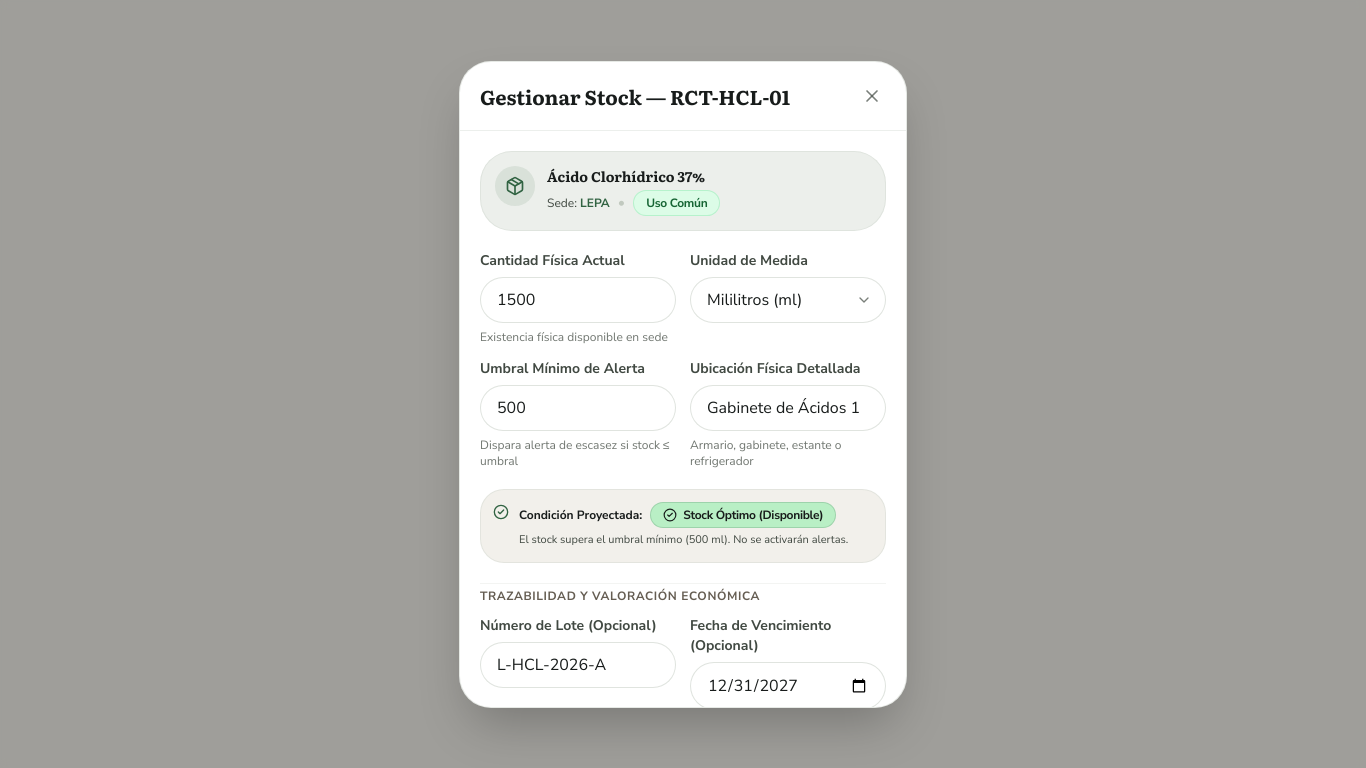
Test: StockModal Component › validates mandatory location before submission
This screenshot has width=1366, height=768.
Step 1. Clear the field labelled "Ubicación Física Detallada" → (788, 408), box [690,384,886,430]
(page scrolled)
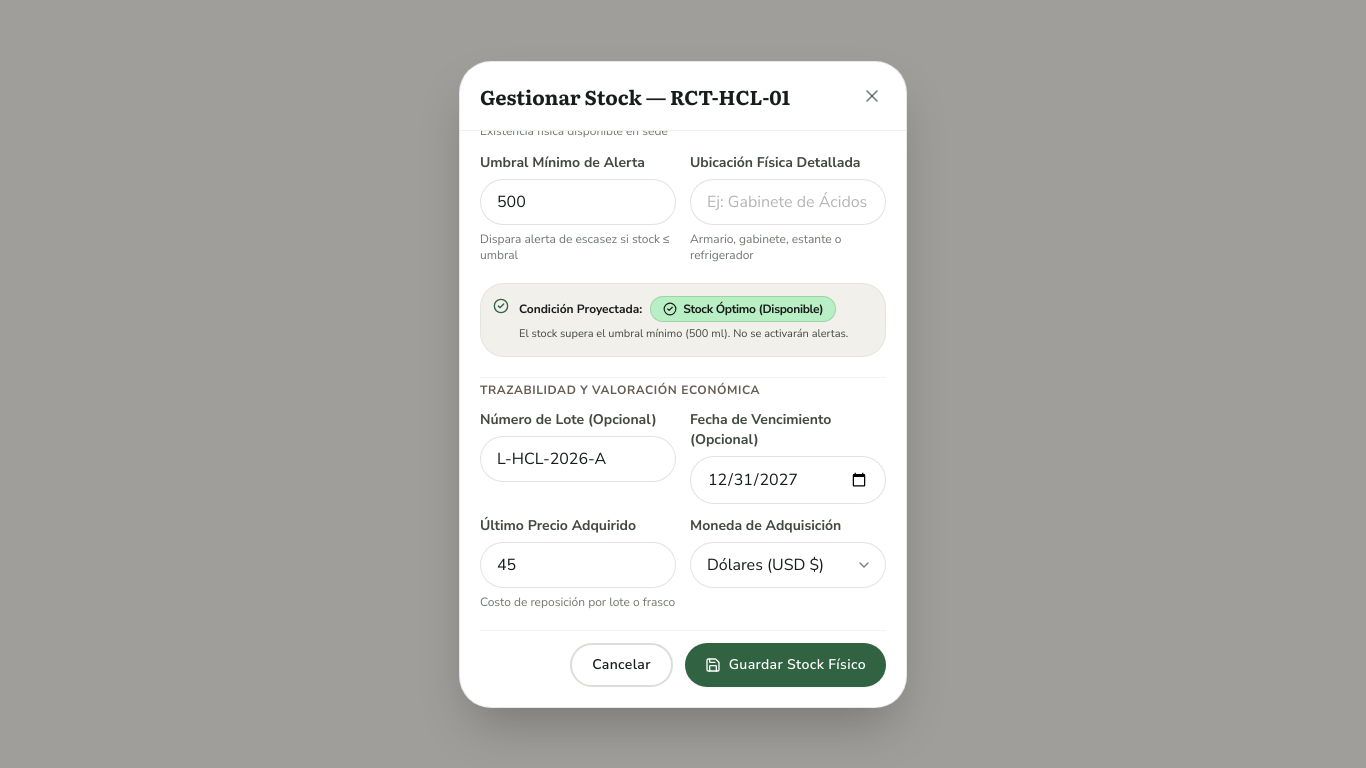
Step 2. Click the button "Guardar Stock Físico" → click(785, 664), box [685,642,886,686]
(page scrolled)
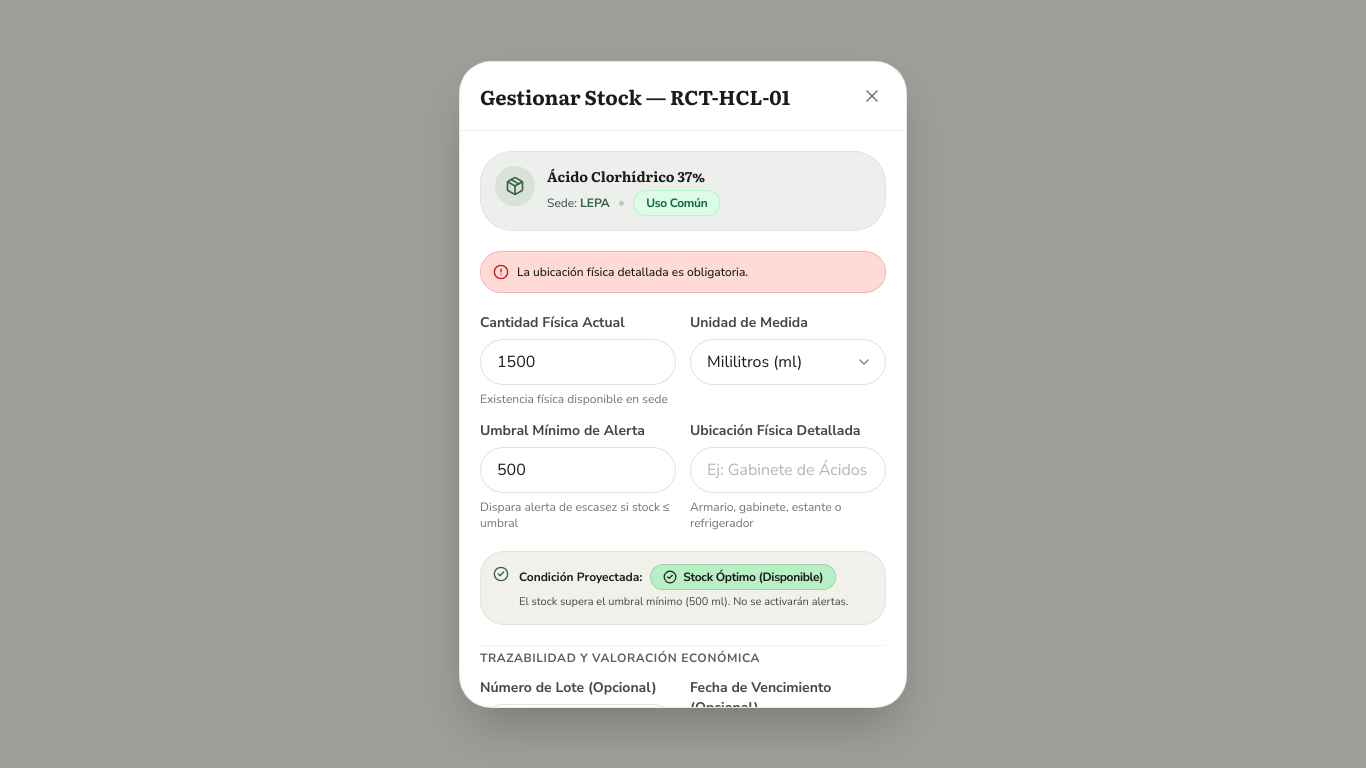
Check: the text "La ubicación física detallada es obligatoria." is shown, box [517,264,748,280]
